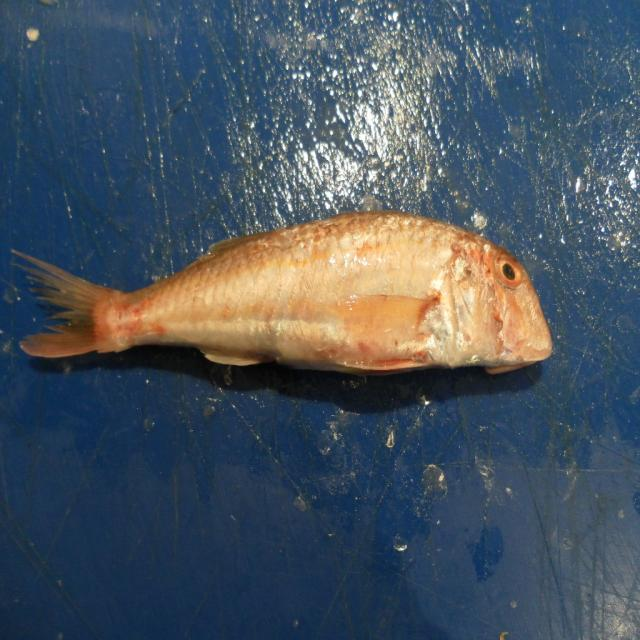Striped-Red-Mullet-tekir-: (15, 214, 554, 379)
